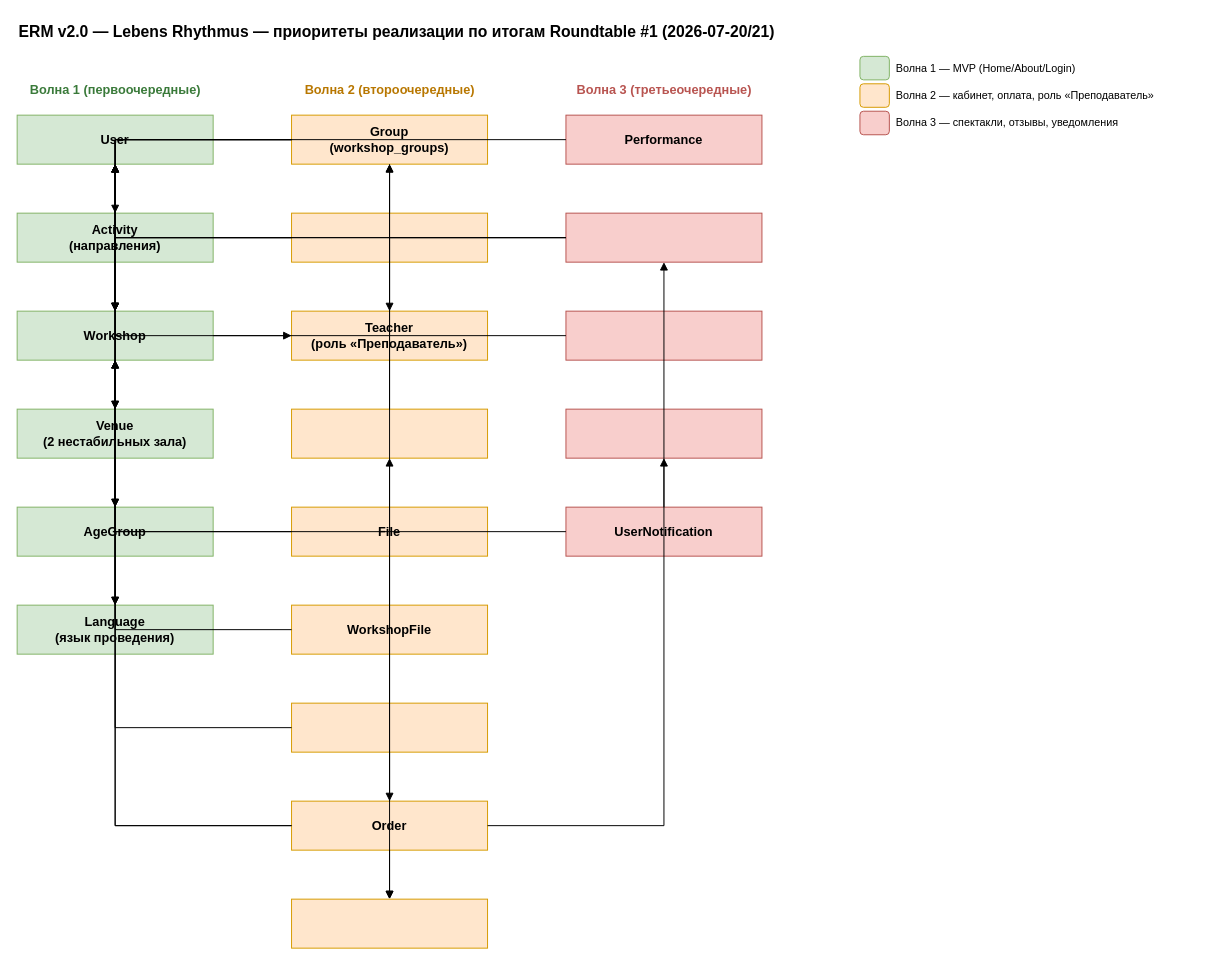
The diagram is 1225 pixels wide and 965 high, and some of its shapes have lost their labels. The shapes that lost their labels are listed below. From the top down, each one's box as (x1, y1, x2, y2) in pixels, then its label:
(291, 212, 488, 262): Enrollment
(565, 212, 762, 262): Event
(565, 310, 762, 360): Feedback
(291, 408, 488, 458): Participant
(565, 408, 762, 458): Notification
(291, 702, 488, 752): Payment
(291, 898, 488, 948): Contract
